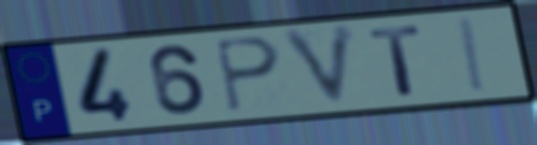4: (74, 44, 142, 127)
6: (147, 42, 211, 118)
I: (458, 15, 490, 96)
P: (211, 34, 285, 116)
T: (365, 22, 425, 98)
V: (277, 21, 360, 112)
